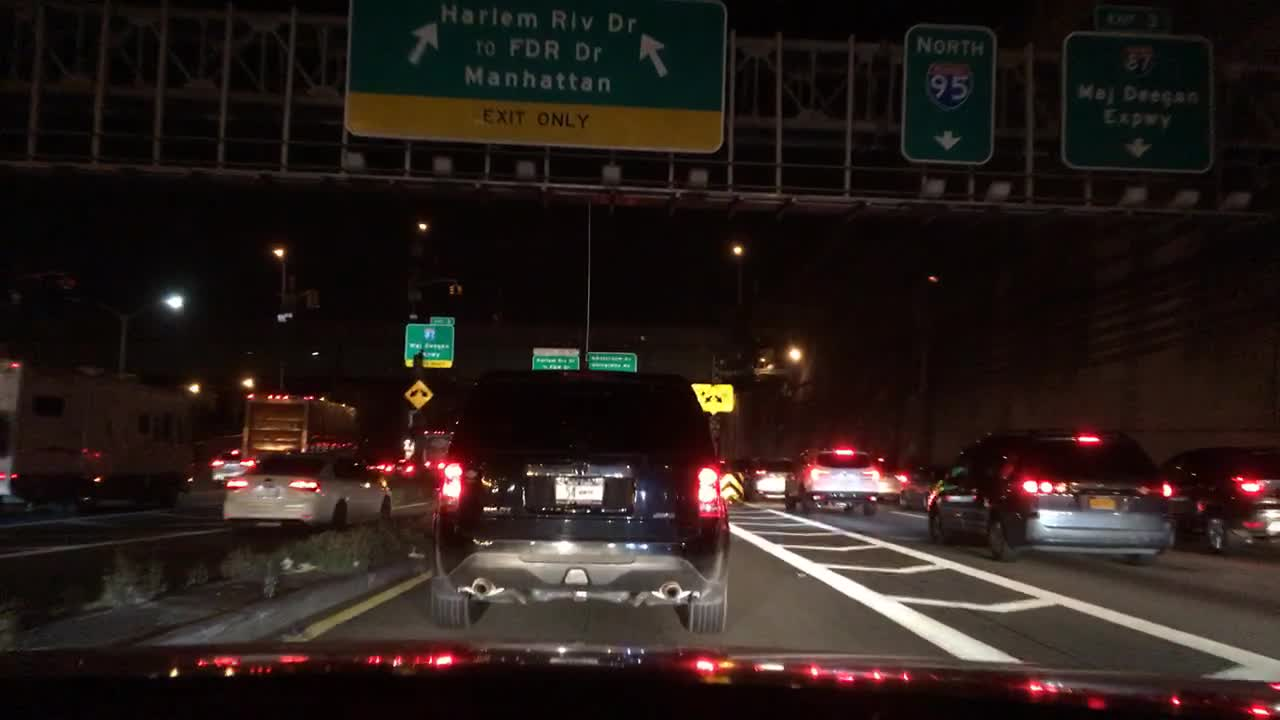car: (434, 371, 733, 632), (926, 422, 1175, 566), (0, 357, 196, 515), (223, 449, 395, 534), (1160, 445, 1280, 557), (788, 445, 877, 512), (733, 454, 788, 503), (902, 462, 950, 508), (206, 446, 251, 485), (877, 451, 902, 500), (384, 451, 418, 480)
traffic sign: (345, 0, 727, 155), (1062, 30, 1220, 176), (902, 24, 999, 165), (1089, 0, 1180, 32), (403, 323, 455, 366), (693, 380, 733, 413), (586, 351, 638, 373), (531, 349, 578, 371), (403, 380, 432, 408), (429, 314, 454, 325)
truck: (240, 390, 363, 466), (417, 429, 454, 480)
